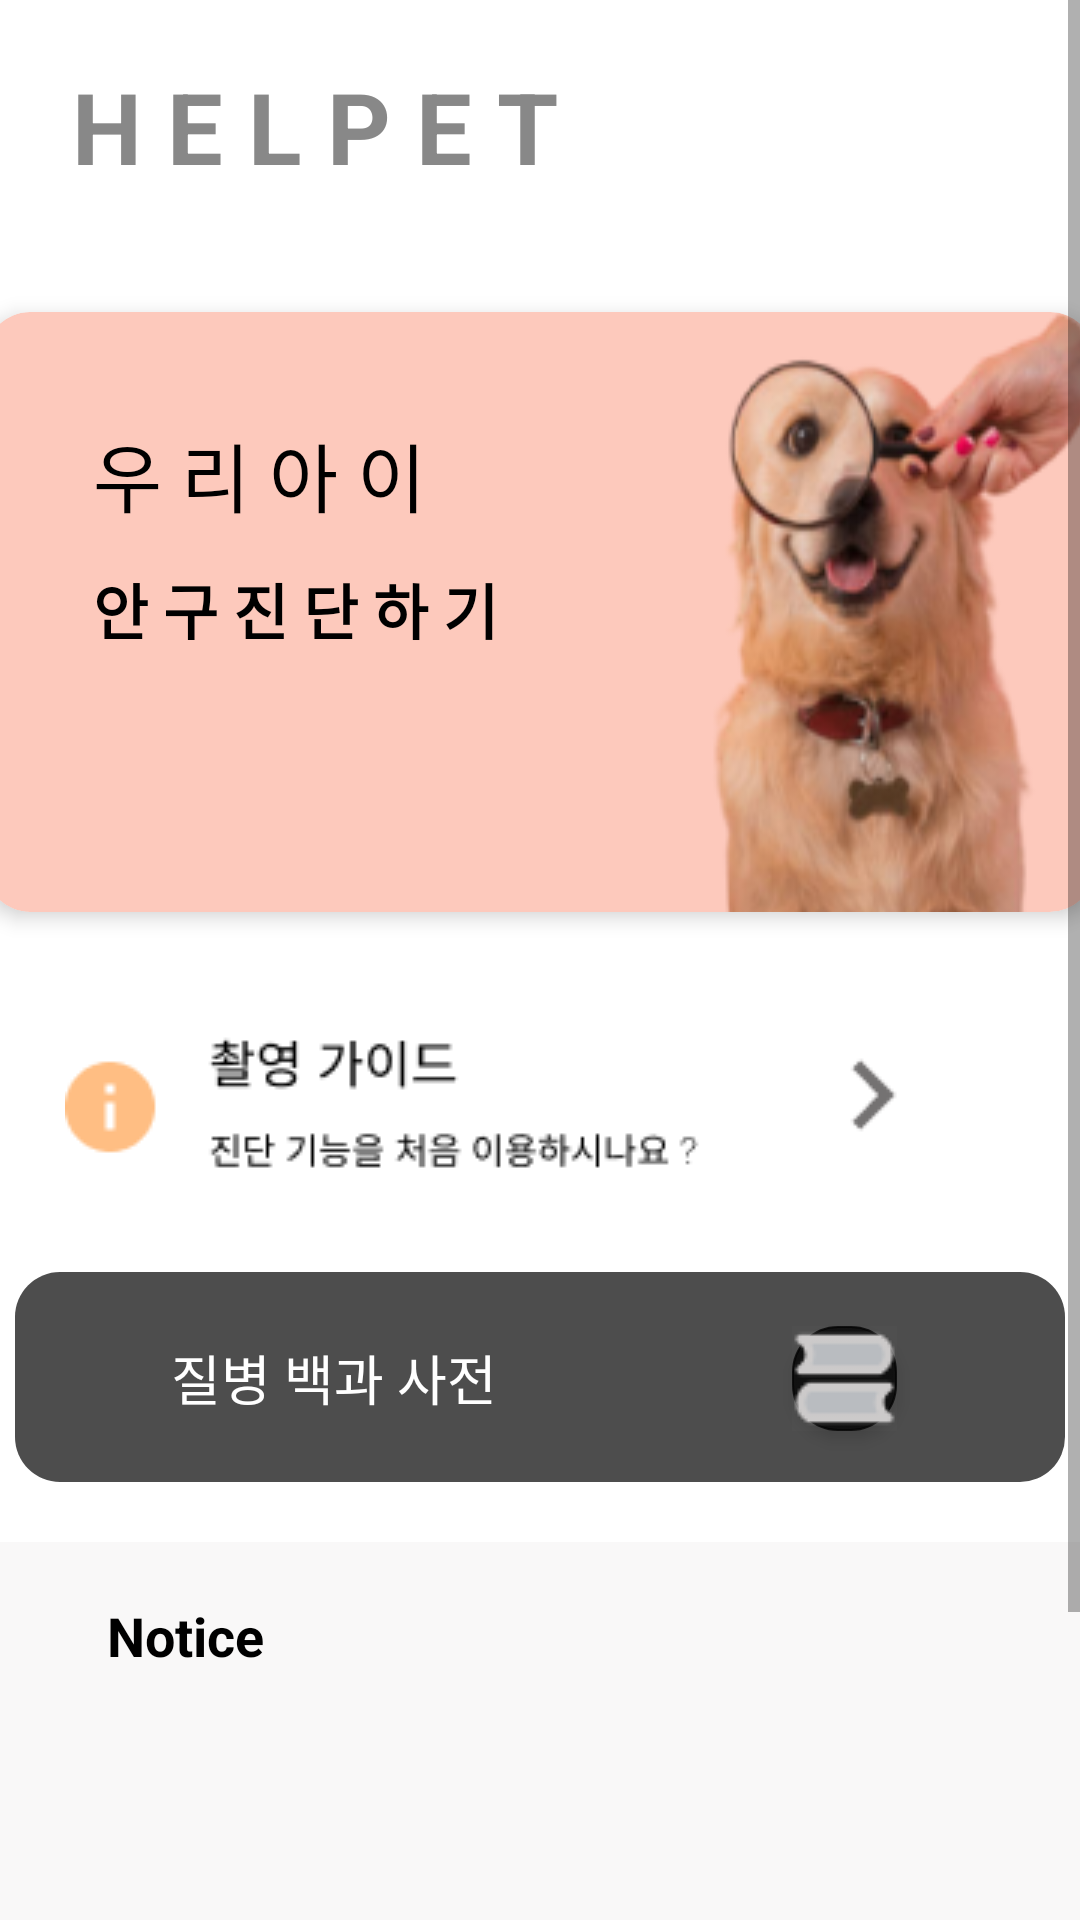

Where to tap for icons on this 1080px x 1920px app screen, as (x=x, y=y):
book: (x=844, y=1378)
